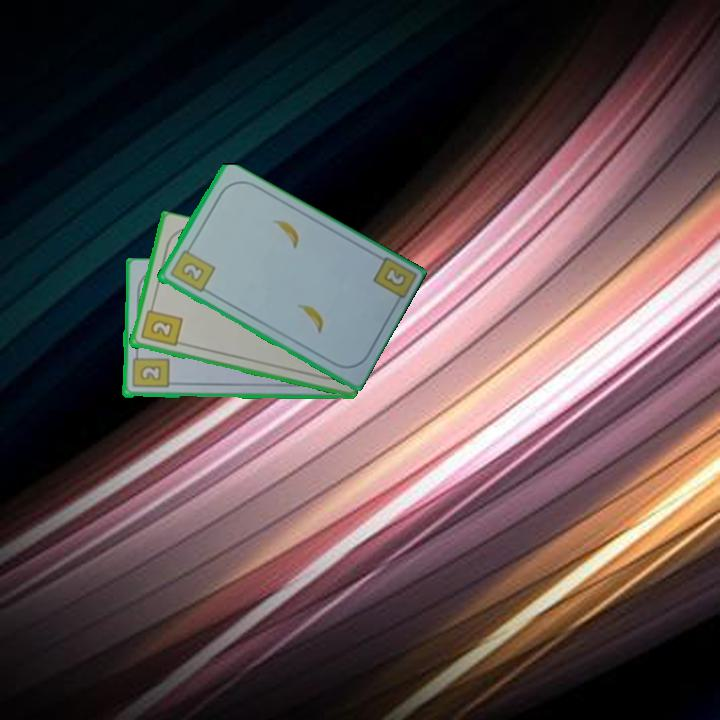2b: (166, 242, 217, 295), (137, 301, 184, 349), (129, 349, 171, 391), (380, 263, 409, 290)
